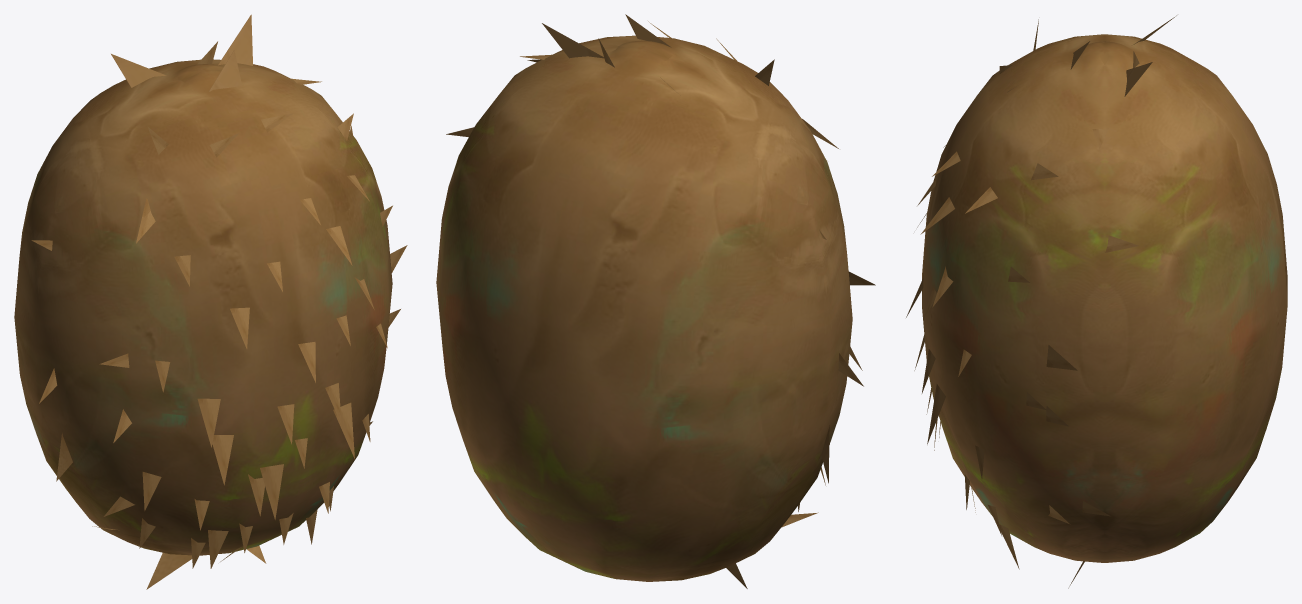
The model's file is mKiwi.FBX.
The picture shows the model from 3 angles, left to right: view 1: azimuth 30°, elevation 25°; view 2: azimuth 150°, elevation 25°; view 3: azimuth 270°, elevation 25°; orthographic projection. The views are drawn at different scales.
Parts seen in each view (by area): view 1: Kiwi_Positif; view 2: Kiwi_Positif; view 3: Kiwi_Positif.
Part boxes in pixels (<box>): Kiwi_Positif: <box>14,14,407,589</box>; Kiwi_Positif: <box>436,14,875,588</box>; Kiwi_Positif: <box>906,15,1287,588</box>.
Size of the model in its own units: 1.28 by 1.69 by 1.08.
